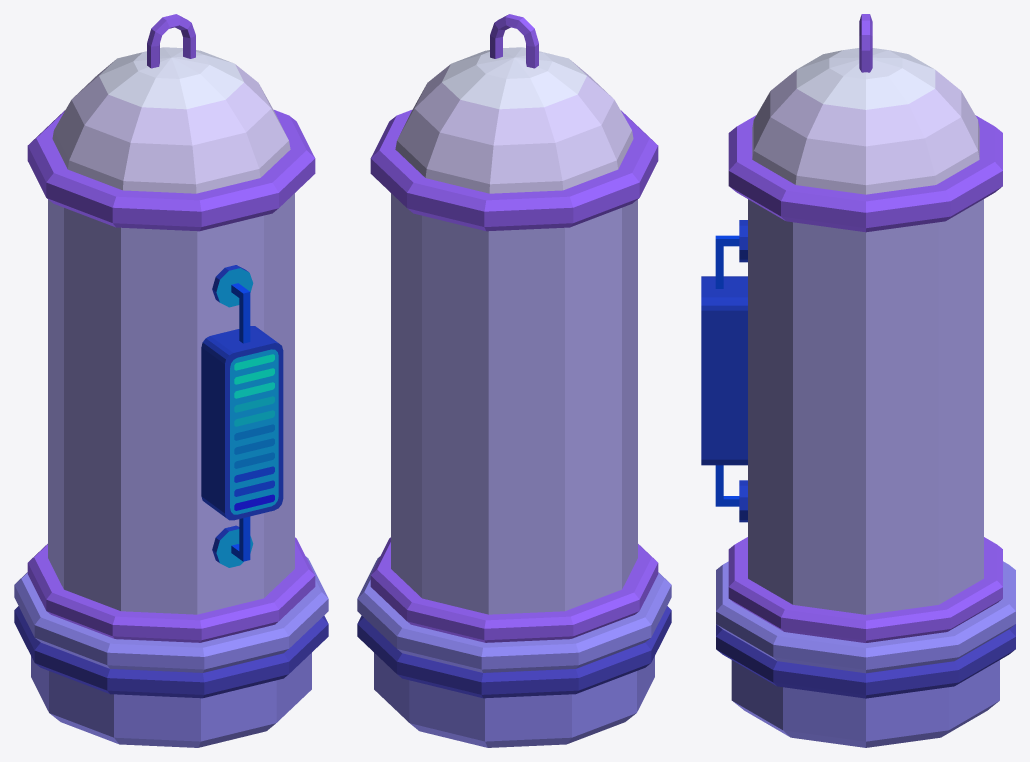
File: Building_047_c.fbx
3 views of the same model, side by side, from view 1: azimuth 30°, elevation 25°; view 2: azimuth 150°, elevation 25°; view 3: azimuth 270°, elevation 25° (orthographic).
Parts seen in each view (by area): view 1: Building_047_c; view 2: Building_047_c; view 3: Building_047_c.
Boxes of the visible parts, box(x1,y1,x2,y2) form: Building_047_c: box(14, 14, 328, 747); Building_047_c: box(357, 14, 671, 747); Building_047_c: box(701, 14, 1015, 747).
Bounding box in the file's own units: 7.79 × 18.43 × 7.8.
